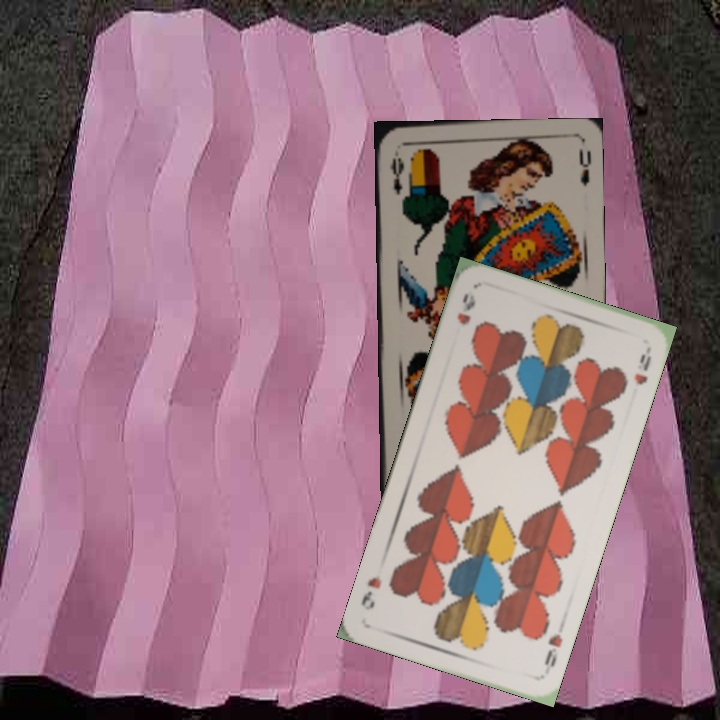EO: (386, 146, 407, 197)
H9: (540, 629, 565, 670), (452, 289, 478, 327)
